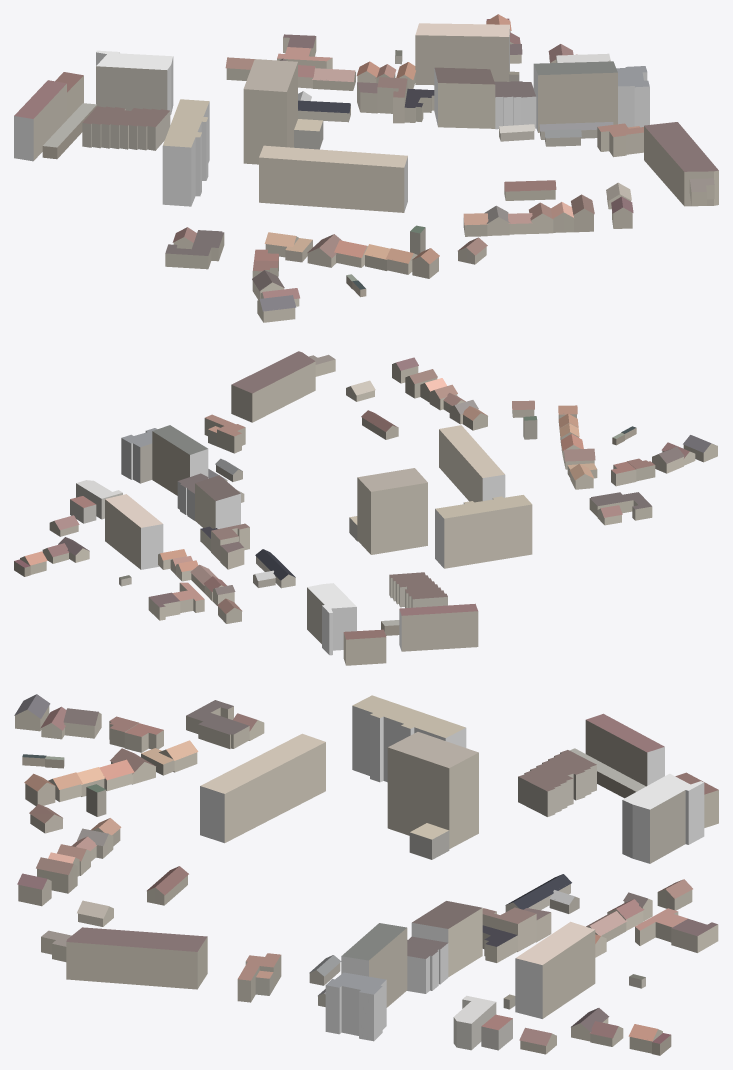
3 views of the same model, one above another, from view 1: azimuth 30°, elevation 25°; view 2: azimuth 150°, elevation 25°; view 3: azimuth 270°, elevation 25° (orthographic). The views are drawn at different scales.
Visible parts, largest first — view 1: tuile; view 2: tuile; view 3: tuile.
Boxes of the visible parts, x1,y1,x2,y2 form: tuile: [14, 14, 718, 322]; tuile: [14, 351, 717, 665]; tuile: [14, 694, 718, 1055].
Size of the model in its own units: 267 by 51.63 by 266.
